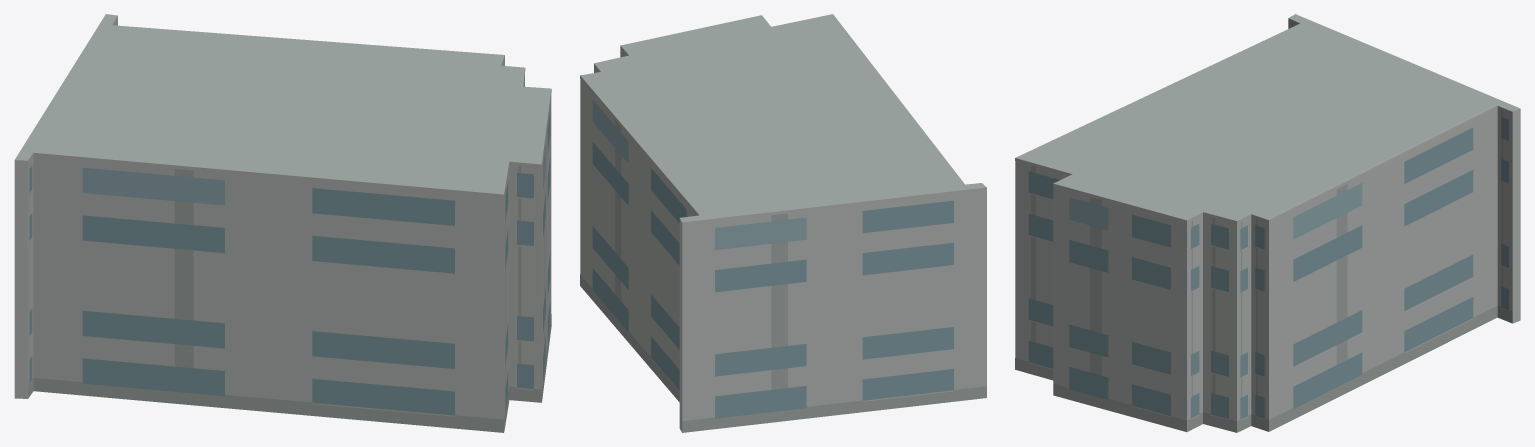
Rendered from survey-upis-32492383.glb.
The picture shows the model from 3 angles, left to right: view 1: azimuth 30°, elevation 25°; view 2: azimuth 150°, elevation 25°; view 3: azimuth 270°, elevation 25°; orthographic projection. The views are drawn at different scales.
Visible parts, largest first — view 1: survey-upis-32492383.tmp; view 2: survey-upis-32492383.tmp; view 3: survey-upis-32492383.tmp.
Boxes of the visible parts, box(x1,y1,x2,y2) form: survey-upis-32492383.tmp: box(14, 14, 551, 432); survey-upis-32492383.tmp: box(580, 14, 986, 432); survey-upis-32492383.tmp: box(1015, 14, 1520, 432).
Size of the model in its own units: 34.19 by 16.3 by 35.27.
